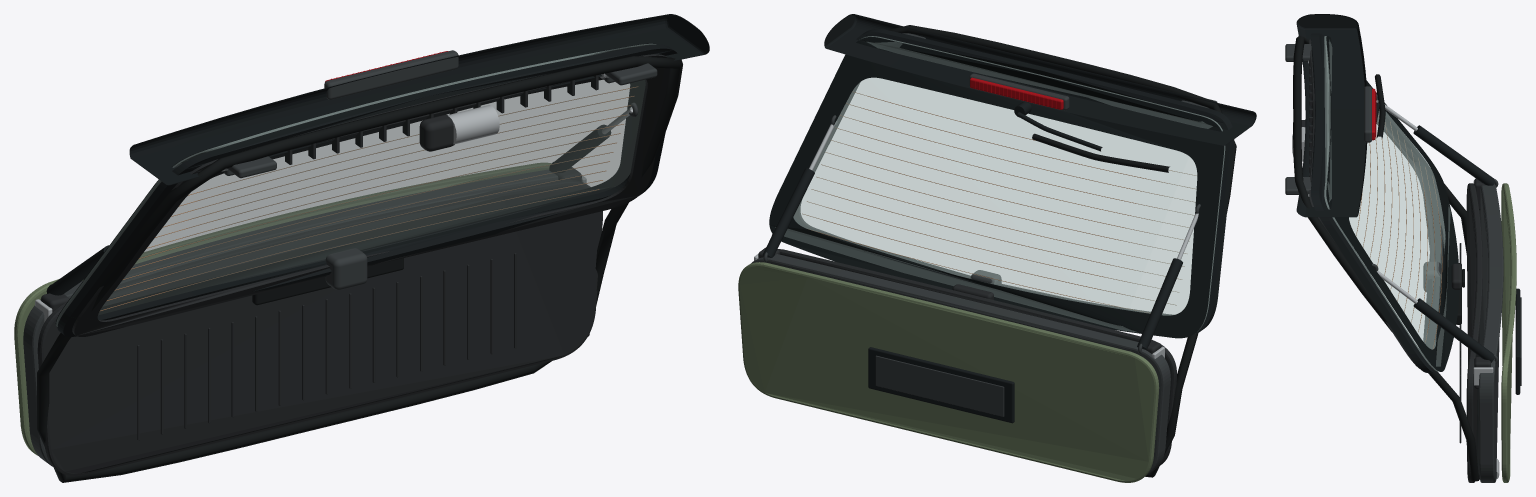
3 views of the same model, side by side, from view 1: azimuth 30°, elevation 25°; view 2: azimuth 150°, elevation 25°; view 3: azimuth 270°, elevation 25° (orthographic). The views are drawn at different scales.
Parts seen in each view (by area): view 1: hatch-lower-trim, rear-glass, hatch-seal, hatch-spoiler, hatch-upper-frame, hatch-upper-trim, tailgate, hatch-lower-panel, hatch-brake-light, hatch-wiper-motor, hatch-upper-lock, hatch-strut-left--strut-barrel (+2 smaller); view 2: rear-glass, hatch-lower-panel, hatch-spoiler, hatch-upper-frame, tailgate, hatch-seal, hatch-lower-trim, hatch-wiper-arm, hatch-brake-light, hatch-strut-left--strut-barrel, hatch-strut-right--strut-barrel, hatch-upper-trim; view 3: rear-glass, hatch-spoiler, hatch-upper-frame, tailgate, hatch-seal, hatch-lower-panel, hatch-lower-trim, hatch-upper-trim, hatch-strut-left--strut-barrel, hatch-strut-right--strut-barrel, hatch-brake-light, hatch-wiper-arm (+5 smaller).
Boxes of the visible parts, bbox=[...] form: hatch-lower-trim: bbox=[37, 180, 602, 476]; rear-glass: bbox=[55, 43, 656, 326]; hatch-seal: bbox=[37, 56, 682, 482]; hatch-spoiler: bbox=[129, 14, 709, 185]; hatch-upper-frame: bbox=[57, 44, 677, 336]; hatch-upper-trim: bbox=[72, 54, 669, 336]; tailgate: bbox=[23, 169, 558, 466]; hatch-lower-panel: bbox=[14, 162, 551, 455]; hatch-brake-light: bbox=[324, 50, 458, 99]; hatch-wiper-motor: bbox=[419, 105, 499, 151]; hatch-upper-lock: bbox=[325, 248, 367, 289]; hatch-strut-left--strut-barrel: bbox=[549, 124, 611, 173]; rear-glass: bbox=[769, 36, 1225, 338]; hatch-lower-panel: bbox=[738, 262, 1159, 482]; hatch-spoiler: bbox=[824, 14, 1256, 145]; hatch-upper-frame: bbox=[775, 29, 1234, 333]; tailgate: bbox=[751, 254, 1170, 474]; hatch-seal: bbox=[772, 25, 1236, 477]; hatch-lower-trim: bbox=[777, 249, 1176, 465]; hatch-wiper-arm: bbox=[1014, 102, 1169, 172]; hatch-brake-light: bbox=[969, 73, 1069, 110]; hatch-strut-left--strut-barrel: bbox=[762, 168, 814, 257]; hatch-strut-right--strut-barrel: bbox=[1137, 258, 1182, 349]; hatch-upper-trim: bbox=[794, 82, 1174, 315]; rear-glass: bbox=[1324, 36, 1459, 371]; hatch-spoiler: bbox=[1296, 14, 1367, 217]; hatch-upper-frame: bbox=[1311, 33, 1445, 372]; tailgate: bbox=[1478, 184, 1503, 482]; hatch-seal: bbox=[1293, 35, 1479, 481]; hatch-lower-panel: bbox=[1501, 183, 1521, 482]; hatch-lower-trim: bbox=[1456, 183, 1482, 482]; hatch-upper-trim: bbox=[1309, 39, 1435, 368]; hatch-strut-left--strut-barrel: bbox=[1413, 298, 1495, 362]; hatch-strut-right--strut-barrel: bbox=[1413, 125, 1495, 185]; hatch-brake-light: bbox=[1364, 86, 1376, 142]; hatch-wiper-arm: bbox=[1375, 74, 1385, 138].
Size of the model in its own units: 1.3 by 0.8988 by 0.6305.
